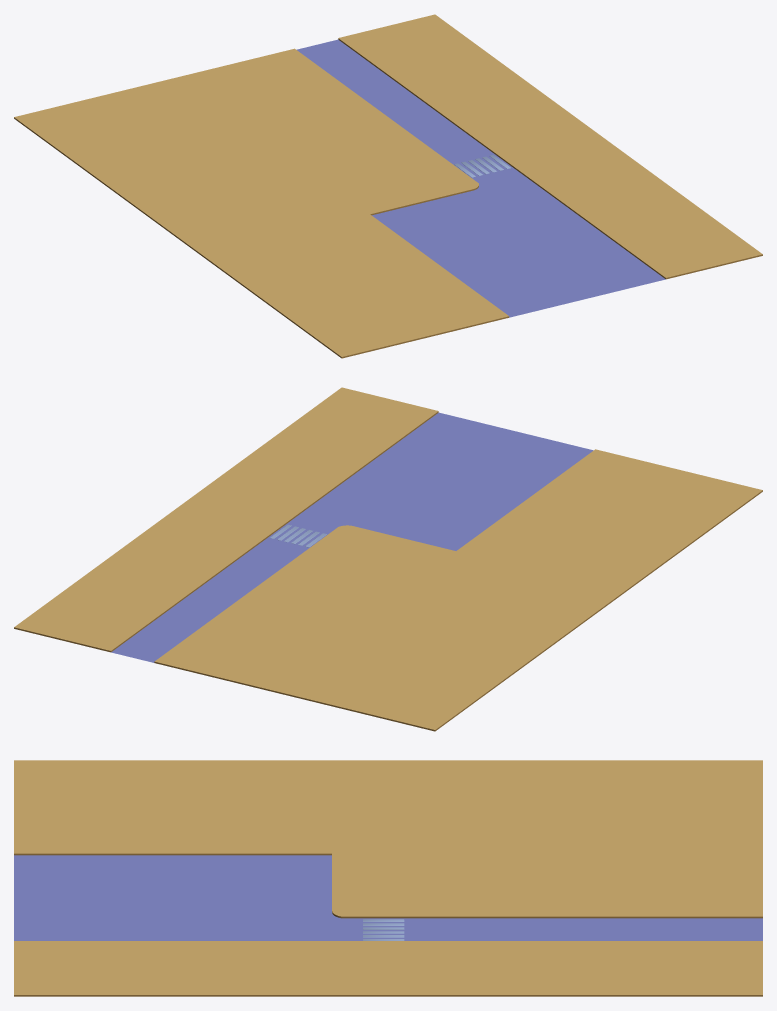
File: military_ground.fbx
The picture shows the model from 3 angles, top to bottom: view 1: azimuth 30°, elevation 25°; view 2: azimuth 150°, elevation 25°; view 3: azimuth 270°, elevation 25°; orthographic projection. The views are drawn at different scales.
Visible parts, largest first — view 1: military_ground; view 2: military_ground; view 3: military_ground.
Boxes of the visible parts, x1,y1,x2,y2 form: military_ground: [14, 14, 762, 358]; military_ground: [14, 387, 762, 731]; military_ground: [14, 760, 762, 996].
Size of the model in its own units: 49.23 by 0.1641 by 66.36.
